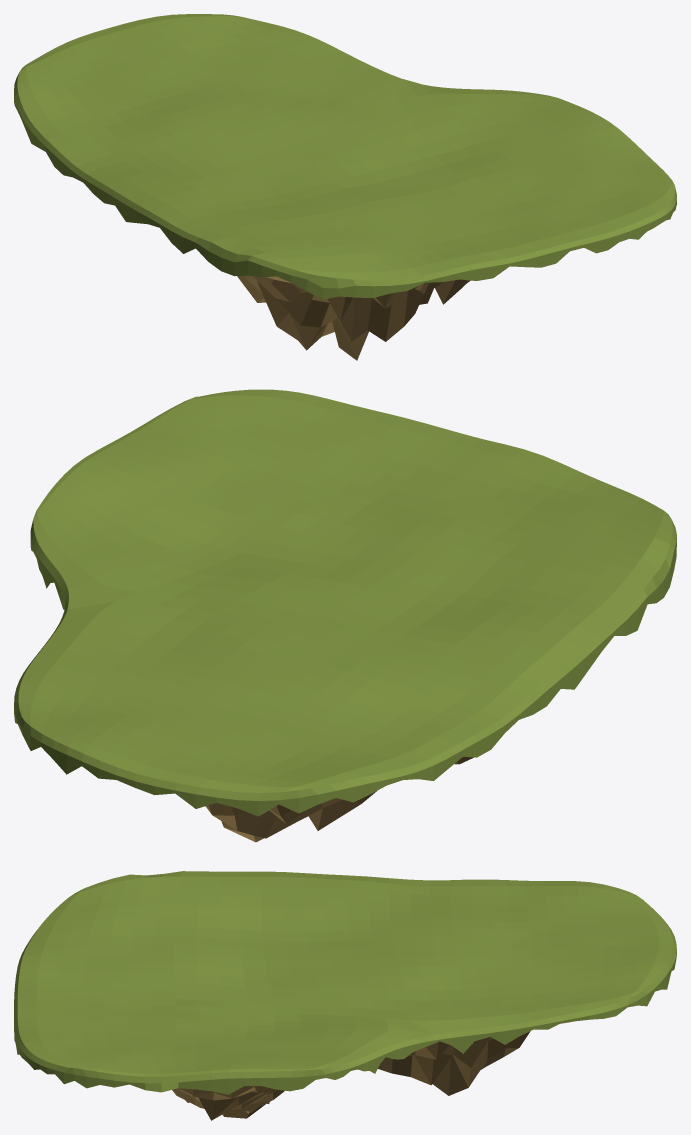
The model's file is platforme_grand.fbx.
3 renders of one model, top to bottom at view 1: azimuth 30°, elevation 25°; view 2: azimuth 150°, elevation 25°; view 3: azimuth 270°, elevation 25°, orthographic. The views are drawn at different scales.
Parts seen in each view (by area): view 1: Plane.002; view 2: Plane.002; view 3: Plane.002.
Boxes of the visible parts, x1,y1,x2,y2 form: Plane.002: (14,14,676,360); Plane.002: (14,389,676,842); Plane.002: (14,871,676,1120).
Size of the model in its own units: 1130 by 408 by 1493.
